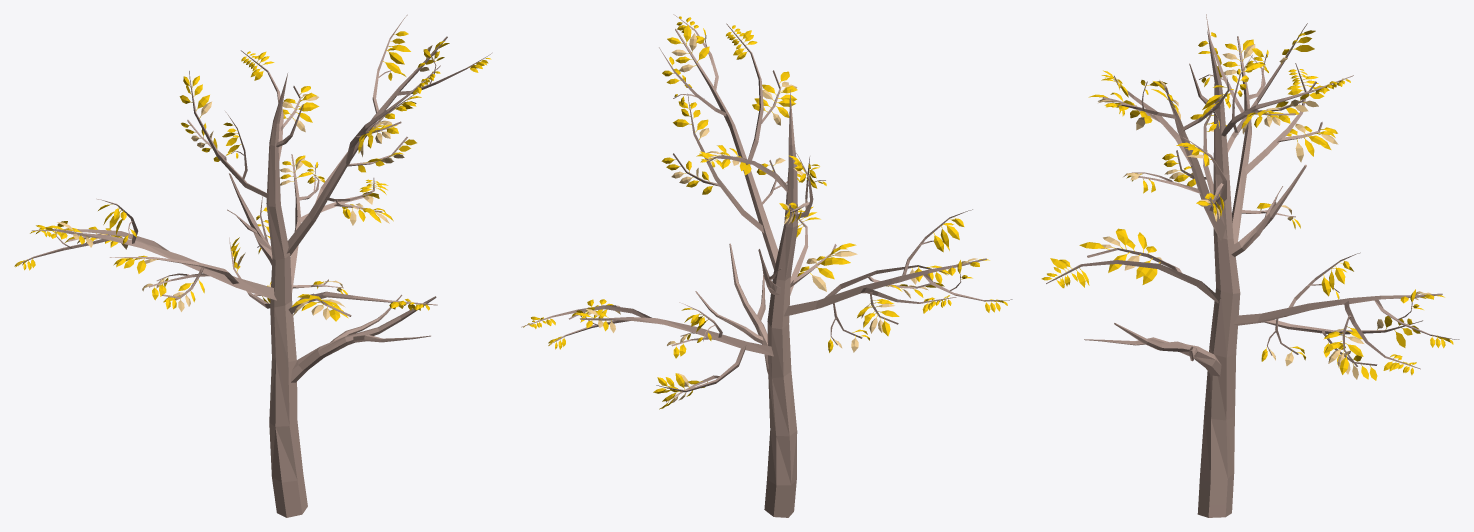
The model's file is autumntree.glb.
3 views of the same model, side by side, from view 1: azimuth 30°, elevation 25°; view 2: azimuth 150°, elevation 25°; view 3: azimuth 270°, elevation 25° (orthographic). The views are drawn at different scales.
Visible parts, largest first — view 1: model; view 2: model; view 3: model.
Boxes of the visible parts, x1,y1,x2,y2 form: model: [14, 14, 492, 517]; model: [521, 14, 1012, 517]; model: [1041, 14, 1459, 517].
Size of the model in its own units: 5.85 by 5.91 by 4.44.
